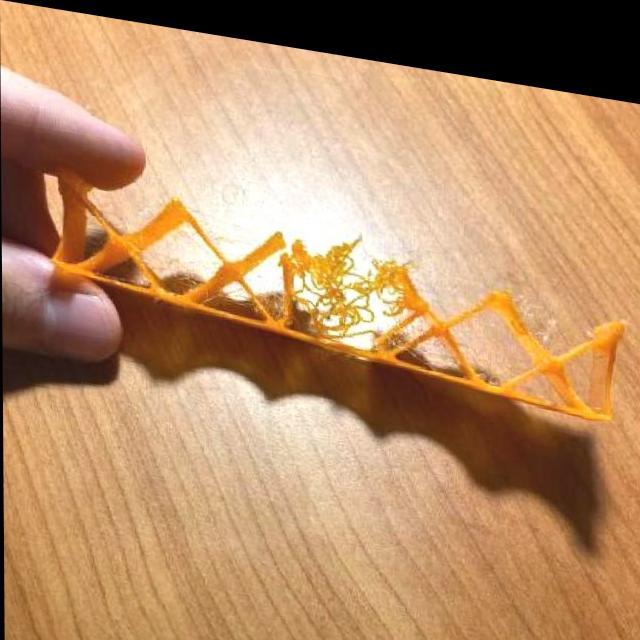spaghetti: (270, 212, 428, 358)
